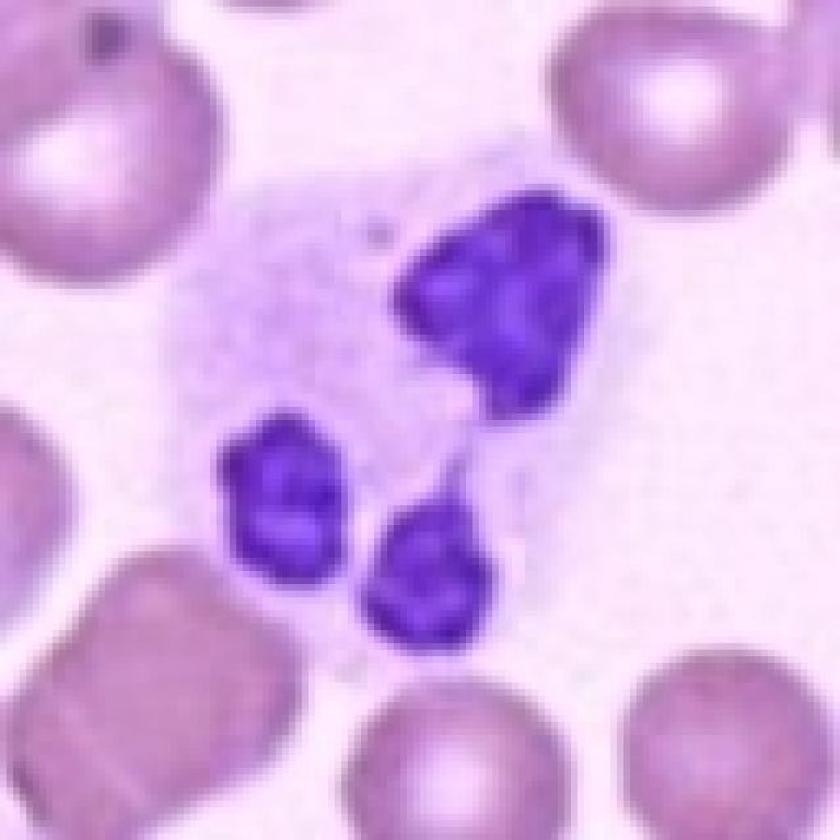neutrophil: (160, 144, 623, 686)
